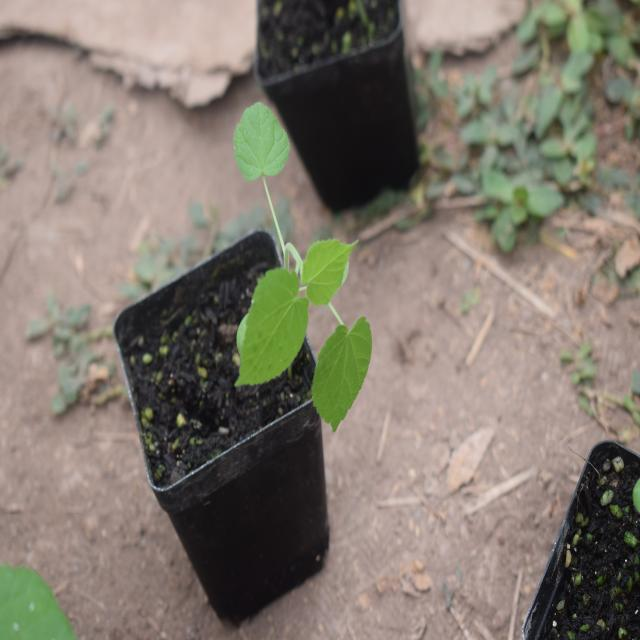abutilon theophrasti: (224, 88, 374, 423)
